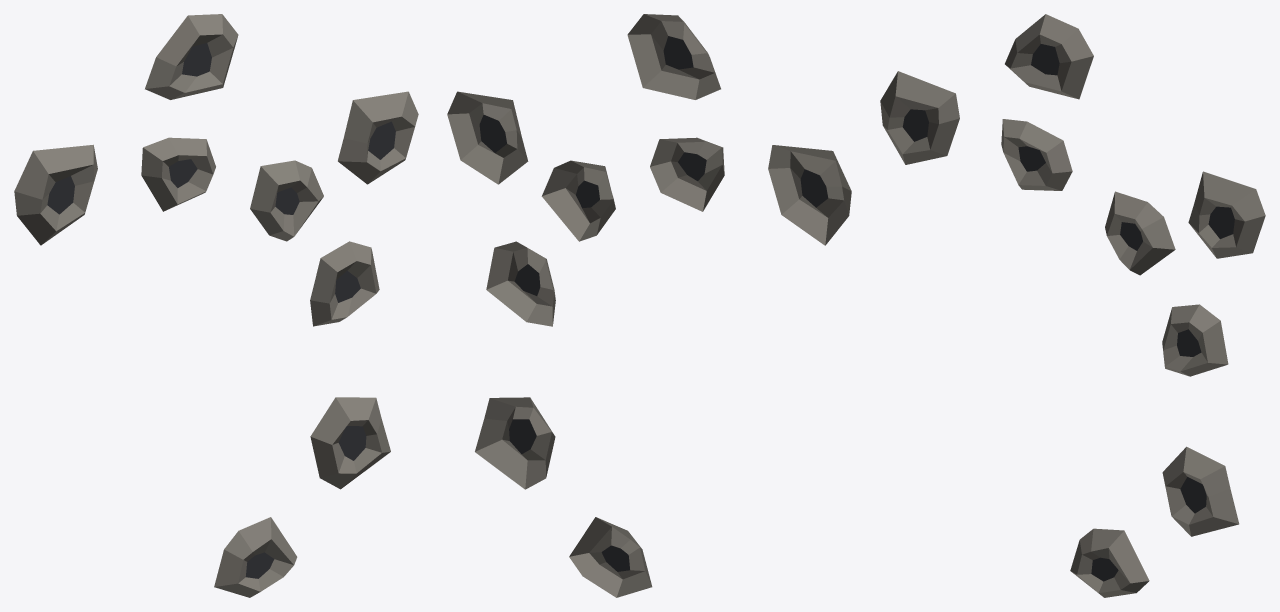
Rendered from SM_Bullet_Hole_E.gltf.
3 renders of one model, left to right at view 1: azimuth 30°, elevation 25°; view 2: azimuth 150°, elevation 25°; view 3: azimuth 330°, elevation 25°, orthographic. The views are drawn at different scales.
Parts seen in each view (by area): view 1: SM_Bullet_Hole_E; view 2: SM_Bullet_Hole_E; view 3: SM_Bullet_Hole_E.
Part boxes in pixels (<box>): SM_Bullet_Hole_E: <box>14,14,418,597</box>; SM_Bullet_Hole_E: <box>447,14,851,597</box>; SM_Bullet_Hole_E: <box>880,14,1265,597</box>.
Bounding box in the file's own units: 1.22 × 1.73 × 0.0482.
1 material, 1 textured.
